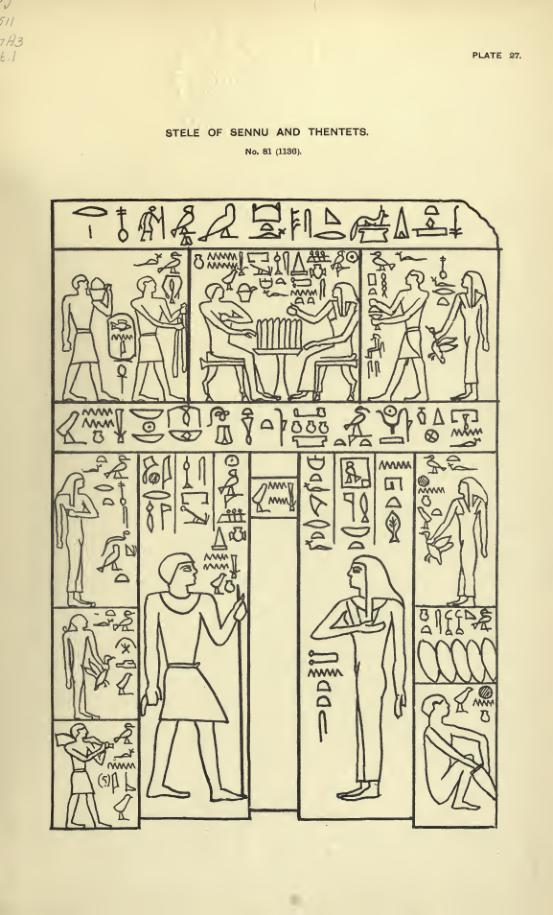circle: (106, 312, 139, 363)
